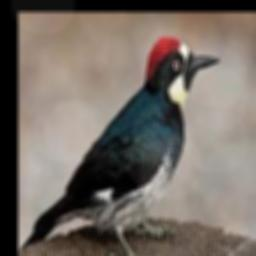Woodpecker: (20, 36, 221, 256)
